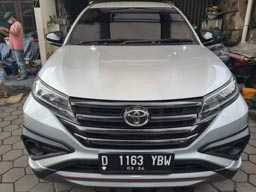plat: (98, 154, 173, 166)
